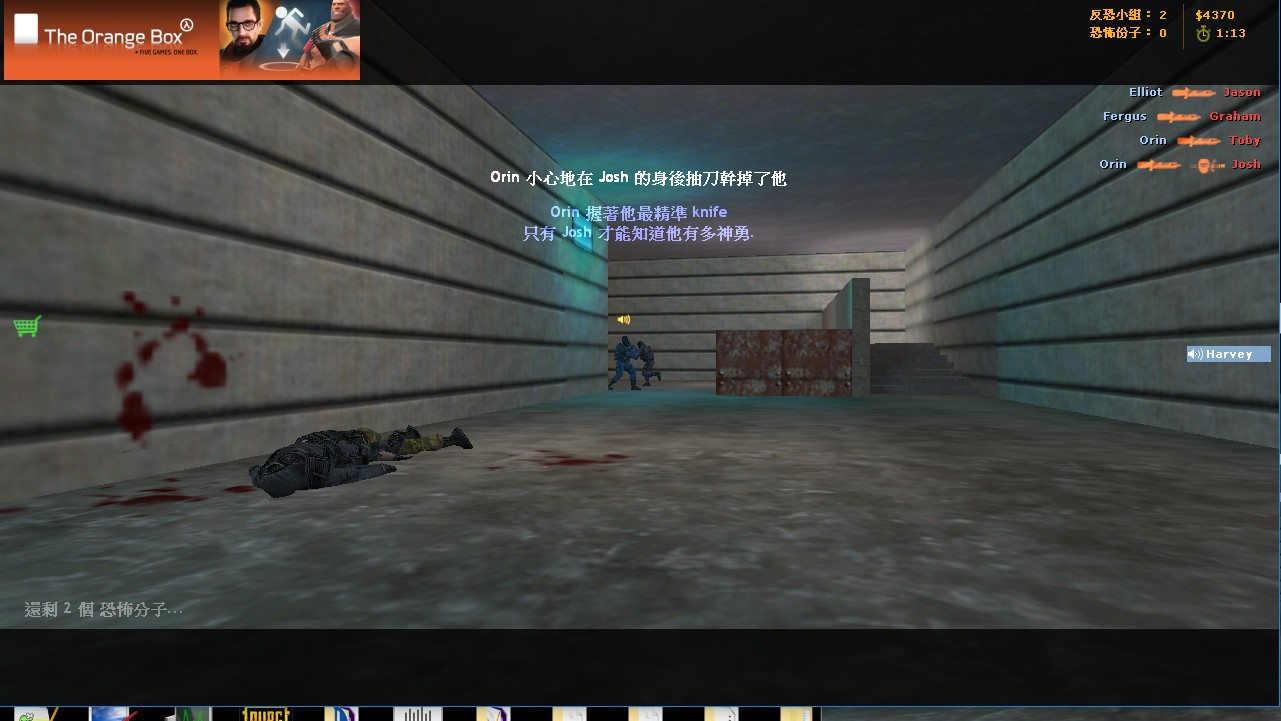person: (610, 335, 637, 391), (635, 340, 662, 387)
